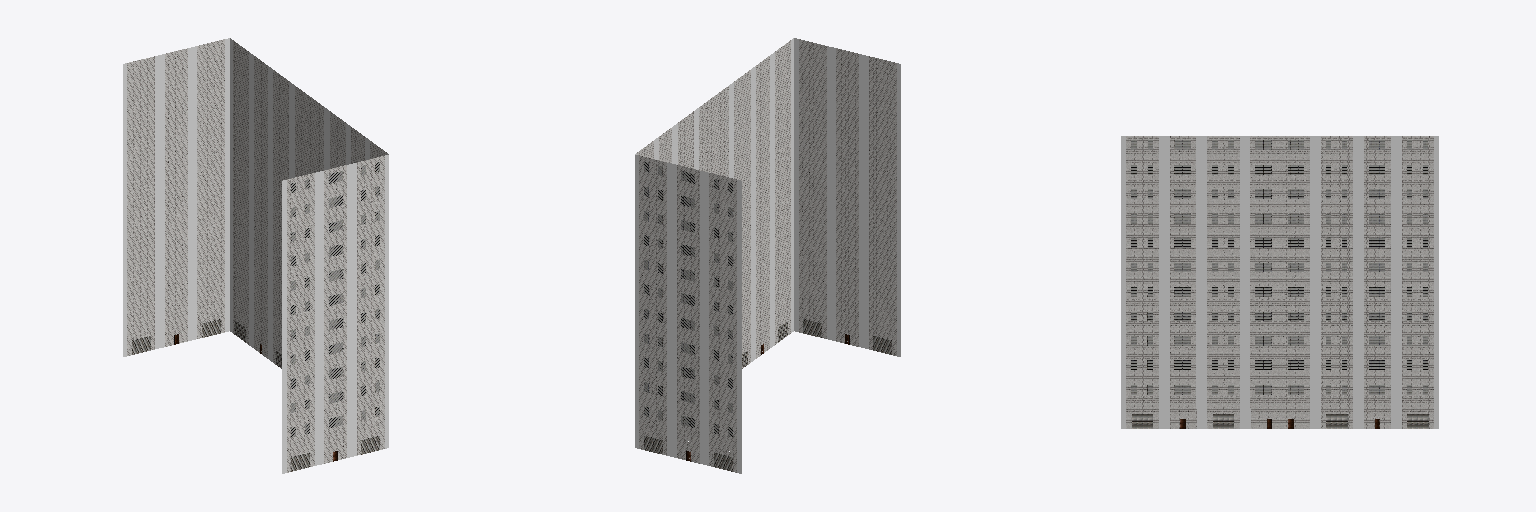
The picture shows the model from 3 angles: view 1: azimuth 30°, elevation 25°; view 2: azimuth 150°, elevation 25°; view 3: azimuth 270°, elevation 25°; orthographic projection.
Visible parts, largest first — view 1: TallLongBuilding2; view 2: TallLongBuilding2; view 3: TallLongBuilding2.
Part boxes in pixels (bbox=[...]): TallLongBuilding2: bbox=[123, 38, 388, 473]; TallLongBuilding2: bbox=[635, 38, 900, 473]; TallLongBuilding2: bbox=[1121, 136, 1438, 428].
Bounding box in the file's own units: 23.01 × 60 × 59.11.
Materials: 5 (4 with a texture image).